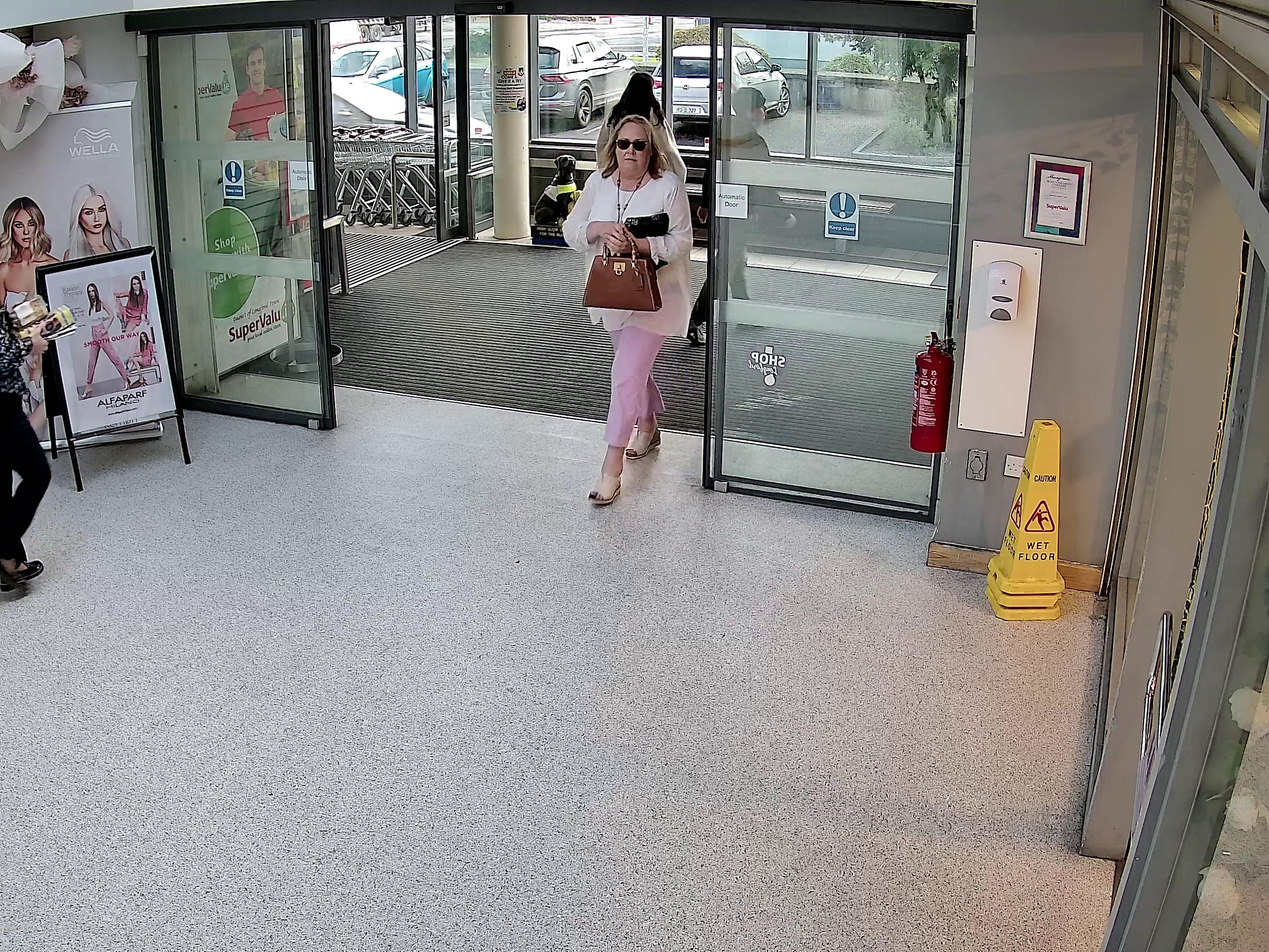backpack-or-handbag: (584, 254, 662, 312)
empty-shopping-bags: (622, 212, 670, 271)
person: (565, 114, 693, 505)
person-with-backpack-handbag-and-shopping-bag-s-: (565, 114, 694, 507)
